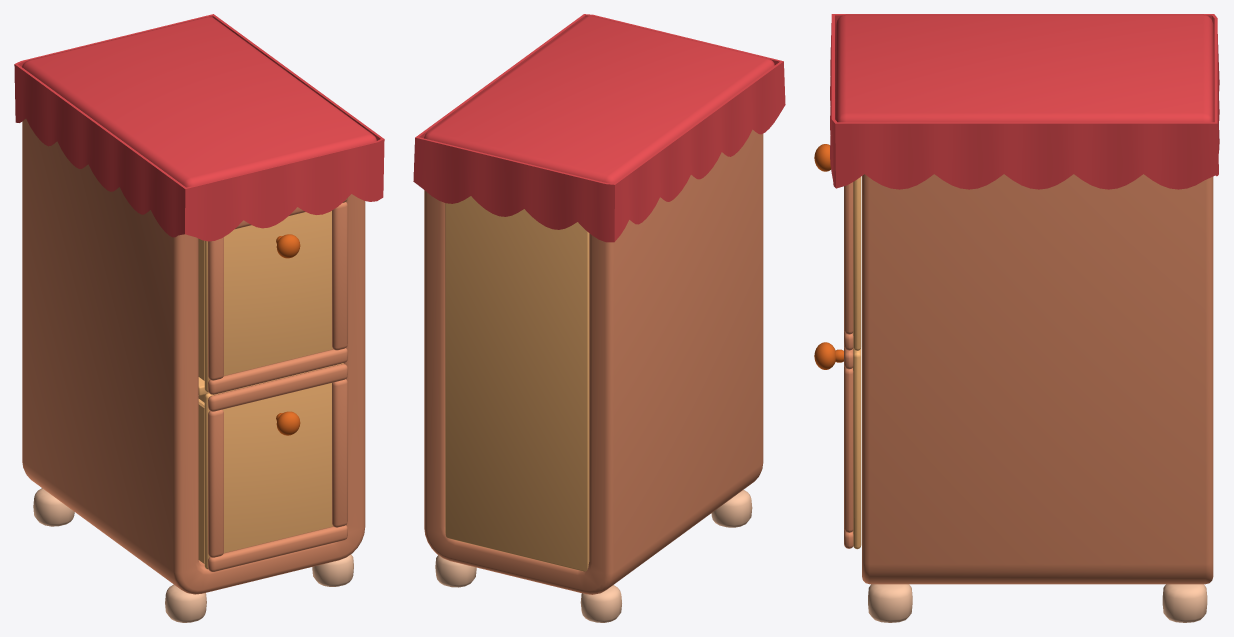
Rendered from gaveteiro_cozinha_2gavetas_campestre.glb.
The picture shows the model from 3 angles, left to right: view 1: azimuth 30°, elevation 25°; view 2: azimuth 150°, elevation 25°; view 3: azimuth 270°, elevation 25°; orthographic projection. The views are drawn at different scales.
Parts seen in each view (by area): view 1: gaveteiro_cozinha_2gavetas_campestre, gaveta_2, gaveta_1; view 2: gaveteiro_cozinha_2gavetas_campestre; view 3: gaveteiro_cozinha_2gavetas_campestre, gaveta_2, gaveta_1.
Boxes of the visible parts, x1,y1,x2,y2 form: gaveteiro_cozinha_2gavetas_campestre: [14, 14, 384, 622]; gaveta_2: [198, 363, 347, 571]; gaveta_1: [198, 198, 347, 394]; gaveteiro_cozinha_2gavetas_campestre: [413, 14, 785, 622]; gaveteiro_cozinha_2gavetas_campestre: [830, 14, 1219, 622]; gaveta_2: [814, 342, 861, 549]; gaveta_1: [814, 144, 861, 350].
Bounding box in the file's own units: 0.418 × 0.9 × 0.6436.
Materials: 1 (1 with a texture image).
